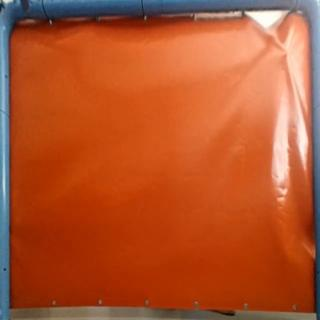Hit-hRxx: (280, 46, 292, 58)
